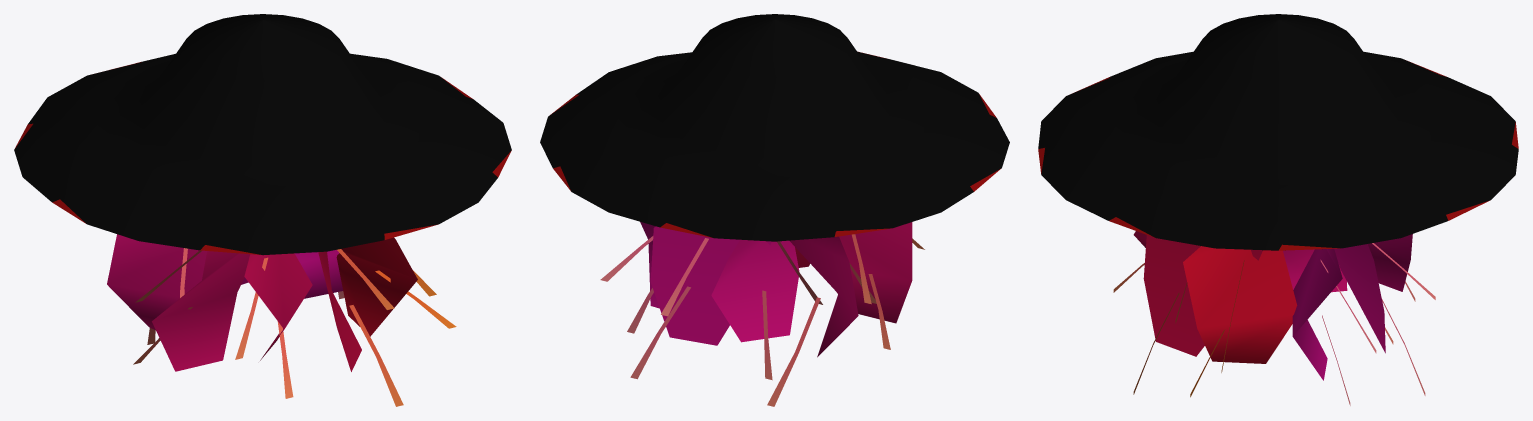
Rendered from fried_egg_jelly_lo.glb.
The picture shows the model from 3 angles, left to right: view 1: azimuth 30°, elevation 25°; view 2: azimuth 150°, elevation 25°; view 3: azimuth 270°, elevation 25°; orthographic projection. The views are drawn at different scales.
Visible parts, largest first — view 1: fried_egg_jelly_lo; view 2: fried_egg_jelly_lo; view 3: fried_egg_jelly_lo.
Part boxes in pixels (x1,y1,x2,y2): fried_egg_jelly_lo: (14,14,511,406); fried_egg_jelly_lo: (540,14,1009,406); fried_egg_jelly_lo: (1038,14,1518,405).
Size of the model in its own units: 0.393 by 0.3149 by 0.393.
